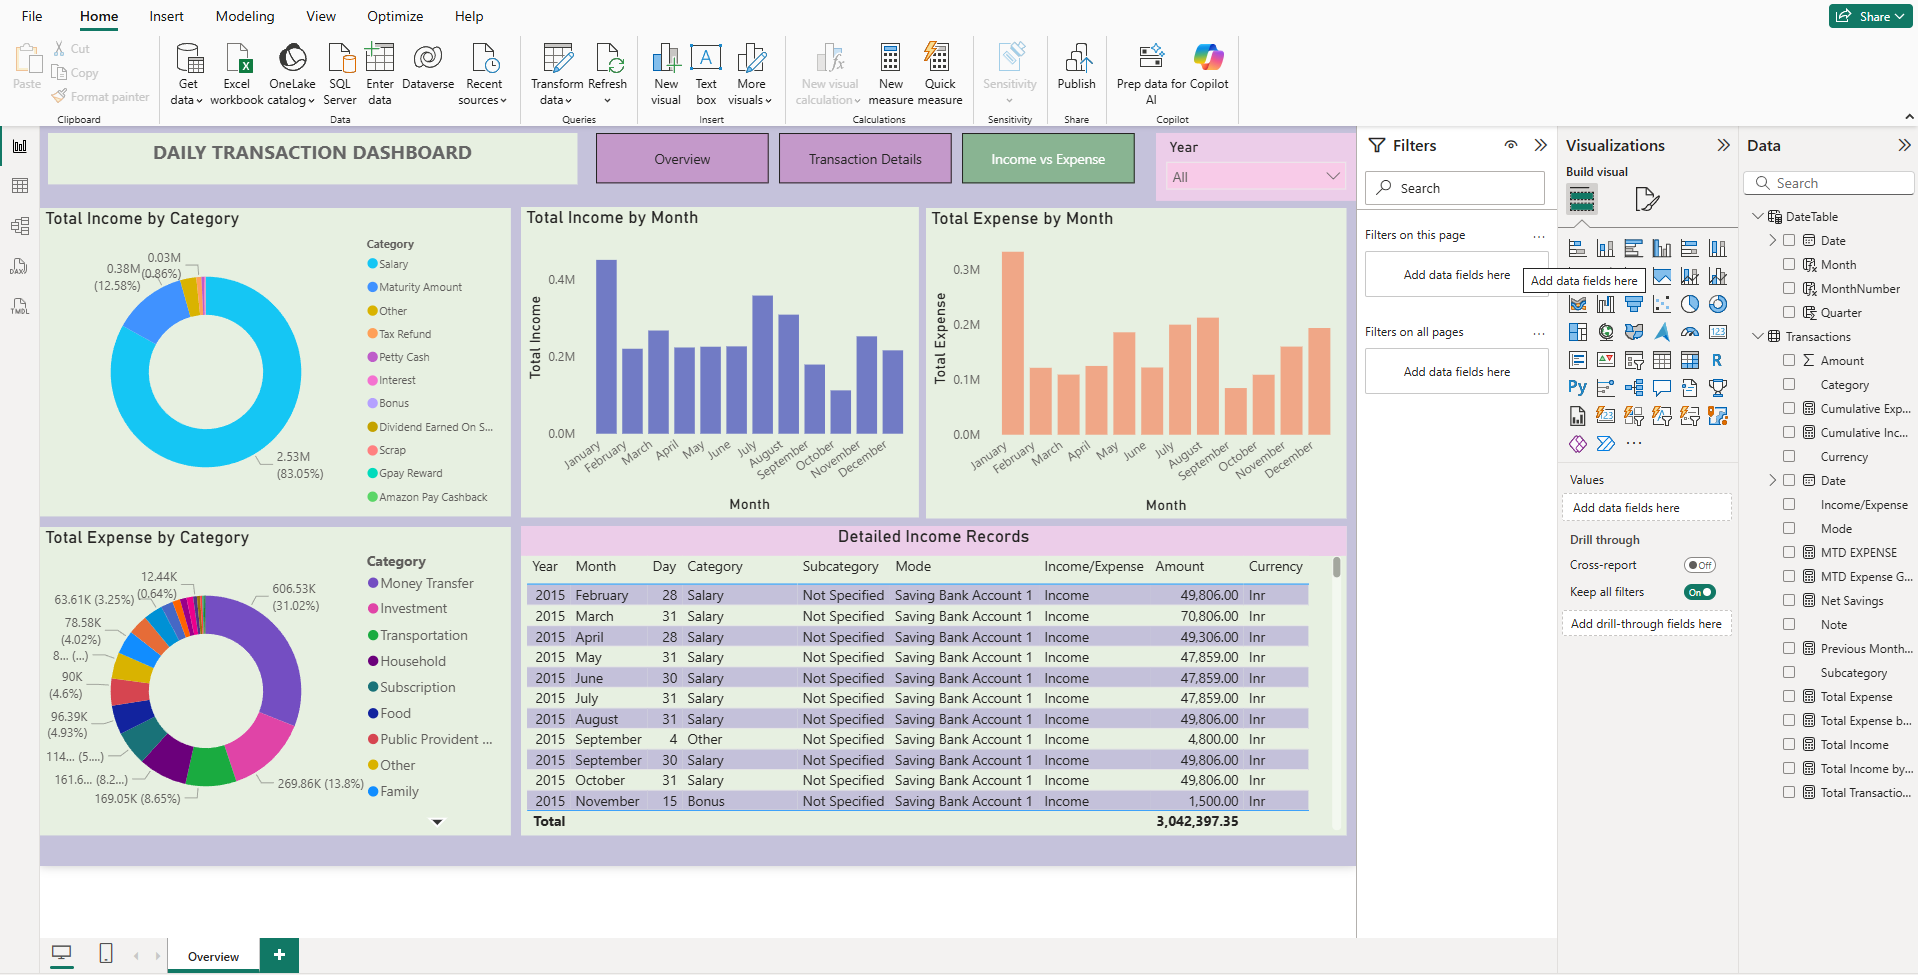

The page's visual inventory and layout, read from the dashboard file:
{"tool":"powerbi","page":{"name":"Overview","canvas":[1280,720],"ordinal":0},"visuals":[{"type":"lineChart","title":"Monthly Trend of Income and Expense","fields":{"Y":["Transactions.Total Income"],"Y2":["Transactions.Total Expense"],"Category":["Transactions.Date.Variation.Date Hierarchy.Month"]},"box":[7.8,175.9,532,207.2],"z":0,"group":"g1"},{"type":"barChart","title":"Top 10 Expense Categories","fields":{"Category":["Transactions.Date.Variation.Date Hierarchy.Year"],"Y":["Transactions.Total Expense"],"Series":["Transactions.Category"]},"box":[914.6,392.8,365.4,320.3],"z":1000,"group":"g1"},{"type":"textbox","box":[7.8,6.8,514.5,49.6],"z":2000},{"type":"cardVisual","fields":{"Data":["Transactions.Total Income","Transactions.Total Expense","Transactions.Total Transactions","Transactions.Net Savings"]},"box":[7.8,66.1,796.6,103.1],"z":2000,"group":"g1"},{"type":"group","id":"g1","title":"Overview","box":[7.8,3.9,1272.2,710.7],"z":3000},{"type":"treemap","fields":{"Values":["Transactions.Total Expense"],"Group":["Transactions.Subcategory"]},"box":[553.5,175.9,512.6,207.2],"z":3000,"group":"g1"},{"type":"bookmarkNavigator","box":[540.7,6.7,526,49.6],"z":4000},{"type":"donutChart","fields":{"Y":["Transactions.Total Expense"],"Category":["Transactions.Mode"]},"box":[7.8,394,380.3,320],"z":4000,"group":"g1"},{"type":"donutChart","fields":{"Y":["Transactions.Total Expense"],"Category":["Transactions.Category"]},"box":[400.4,394.3,501.9,320.3],"z":5000,"group":"g1"},{"type":"slicer","fields":{"Values":["Transactions.Date.Variation.Date Hierarchy.Year"]},"box":[1076.7,3.9,194.5,68.8],"z":6000,"group":"g1"},{"type":"slicer","fields":{"Values":["Transactions.Date.Variation.Date Hierarchy.Month"]},"box":[1076.7,79.5,194.5,68.8],"z":7000,"group":"g1"},{"type":"slicer","fields":{"Values":["Transactions.Category"]},"box":[1076.7,231.8,194.5,68.8],"z":8000,"group":"g1"},{"type":"slicer","fields":{"Values":["Transactions.Subcategory"]},"box":[1076.7,314.3,194.5,68.8],"z":9000,"group":"g1"},{"type":"slicer","fields":{"Values":["Transactions.Amount"]},"box":[820,71,246.1,93.4],"z":10000,"group":"g1"},{"type":"slicer","fields":{"Values":["Transactions.Mode"]},"box":[1076.7,155.2,194.5,68.8],"z":11000,"group":"g1"}]}

Visuals, with their boxes on the page's 1280x720 design canvas (x1, y1, x2, y2). These are canvas units, not pixel positions in the 1918x975 screenshot, which may show the page scaled, cropped or inside an application window:
"Monthly Trend of Income and Expense" lineChart: l=8, t=176, r=540, b=383
"Top 10 Expense Categories" barChart: l=915, t=393, r=1280, b=713
textbox: l=8, t=7, r=522, b=56
cardVisual - Transactions.Total Income x Transactions.Total Expense: l=8, t=66, r=804, b=169
"Overview" group: l=8, t=4, r=1280, b=715
treemap - Transactions.Total Expense x Transactions.Subcategory: l=554, t=176, r=1066, b=383
bookmarkNavigator: l=541, t=7, r=1067, b=56
donutChart - Transactions.Total Expense x Transactions.Mode: l=8, t=394, r=388, b=714
donutChart - Transactions.Total Expense x Transactions.Category: l=400, t=394, r=902, b=715
slicer - Transactions.Date.Variation.Date Hierarchy.Year: l=1077, t=4, r=1271, b=73
slicer - Transactions.Date.Variation.Date Hierarchy.Month: l=1077, t=80, r=1271, b=148
slicer - Transactions.Category: l=1077, t=232, r=1271, b=301
slicer - Transactions.Subcategory: l=1077, t=314, r=1271, b=383
slicer - Transactions.Amount: l=820, t=71, r=1066, b=164
slicer - Transactions.Mode: l=1077, t=155, r=1271, b=224
